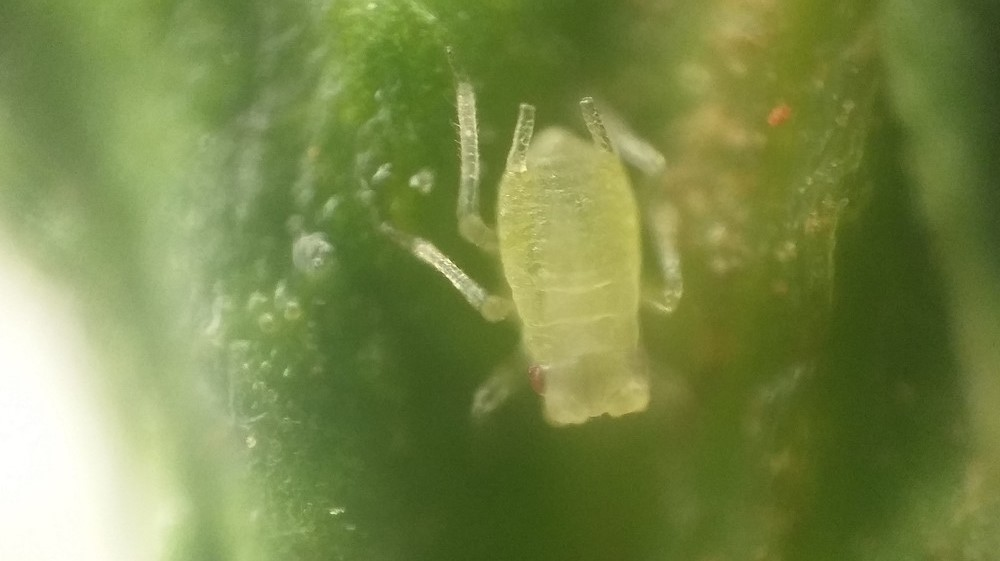Pulgon: (383, 73, 729, 465)
